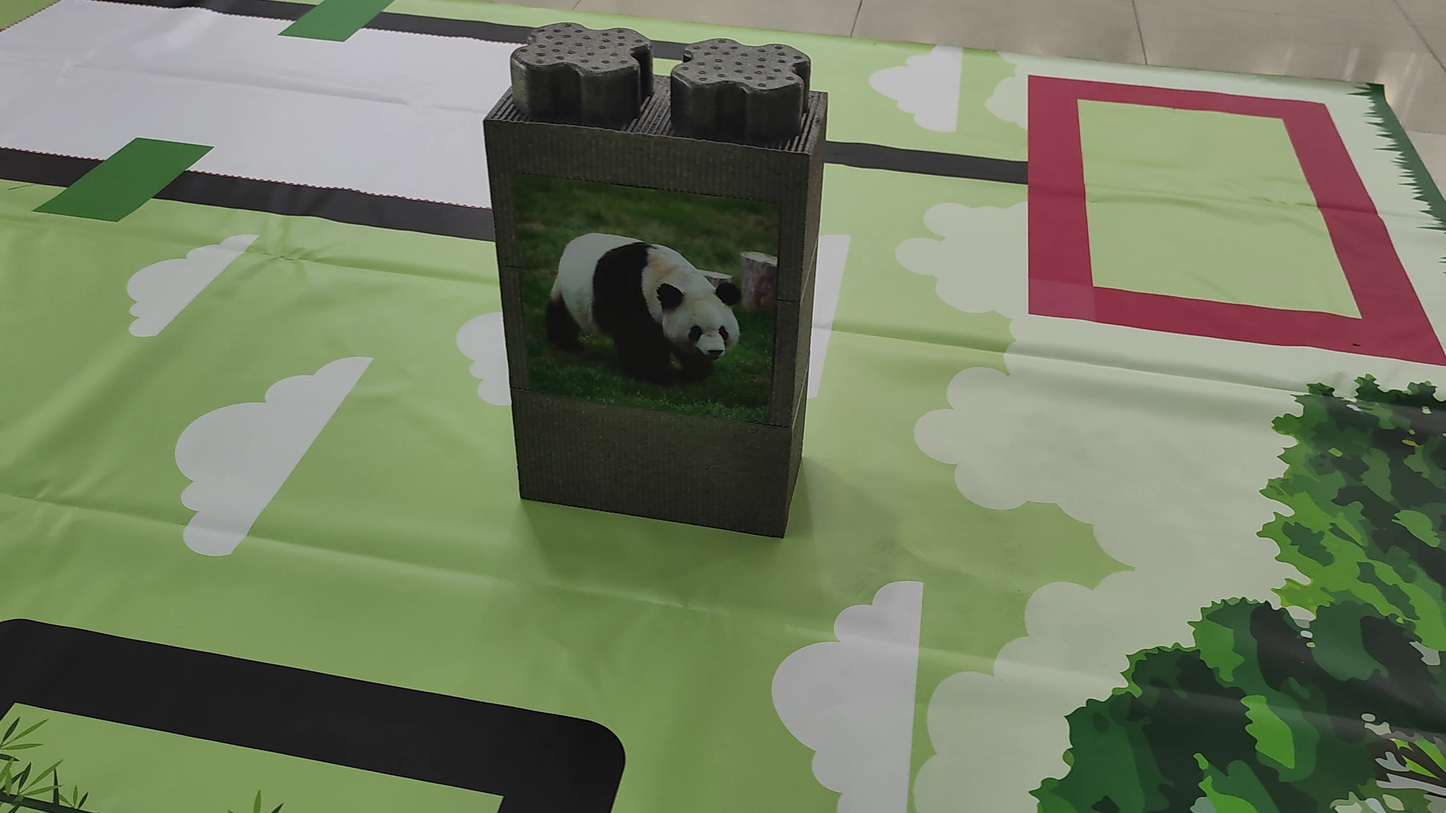panda: (536, 213, 757, 403)
